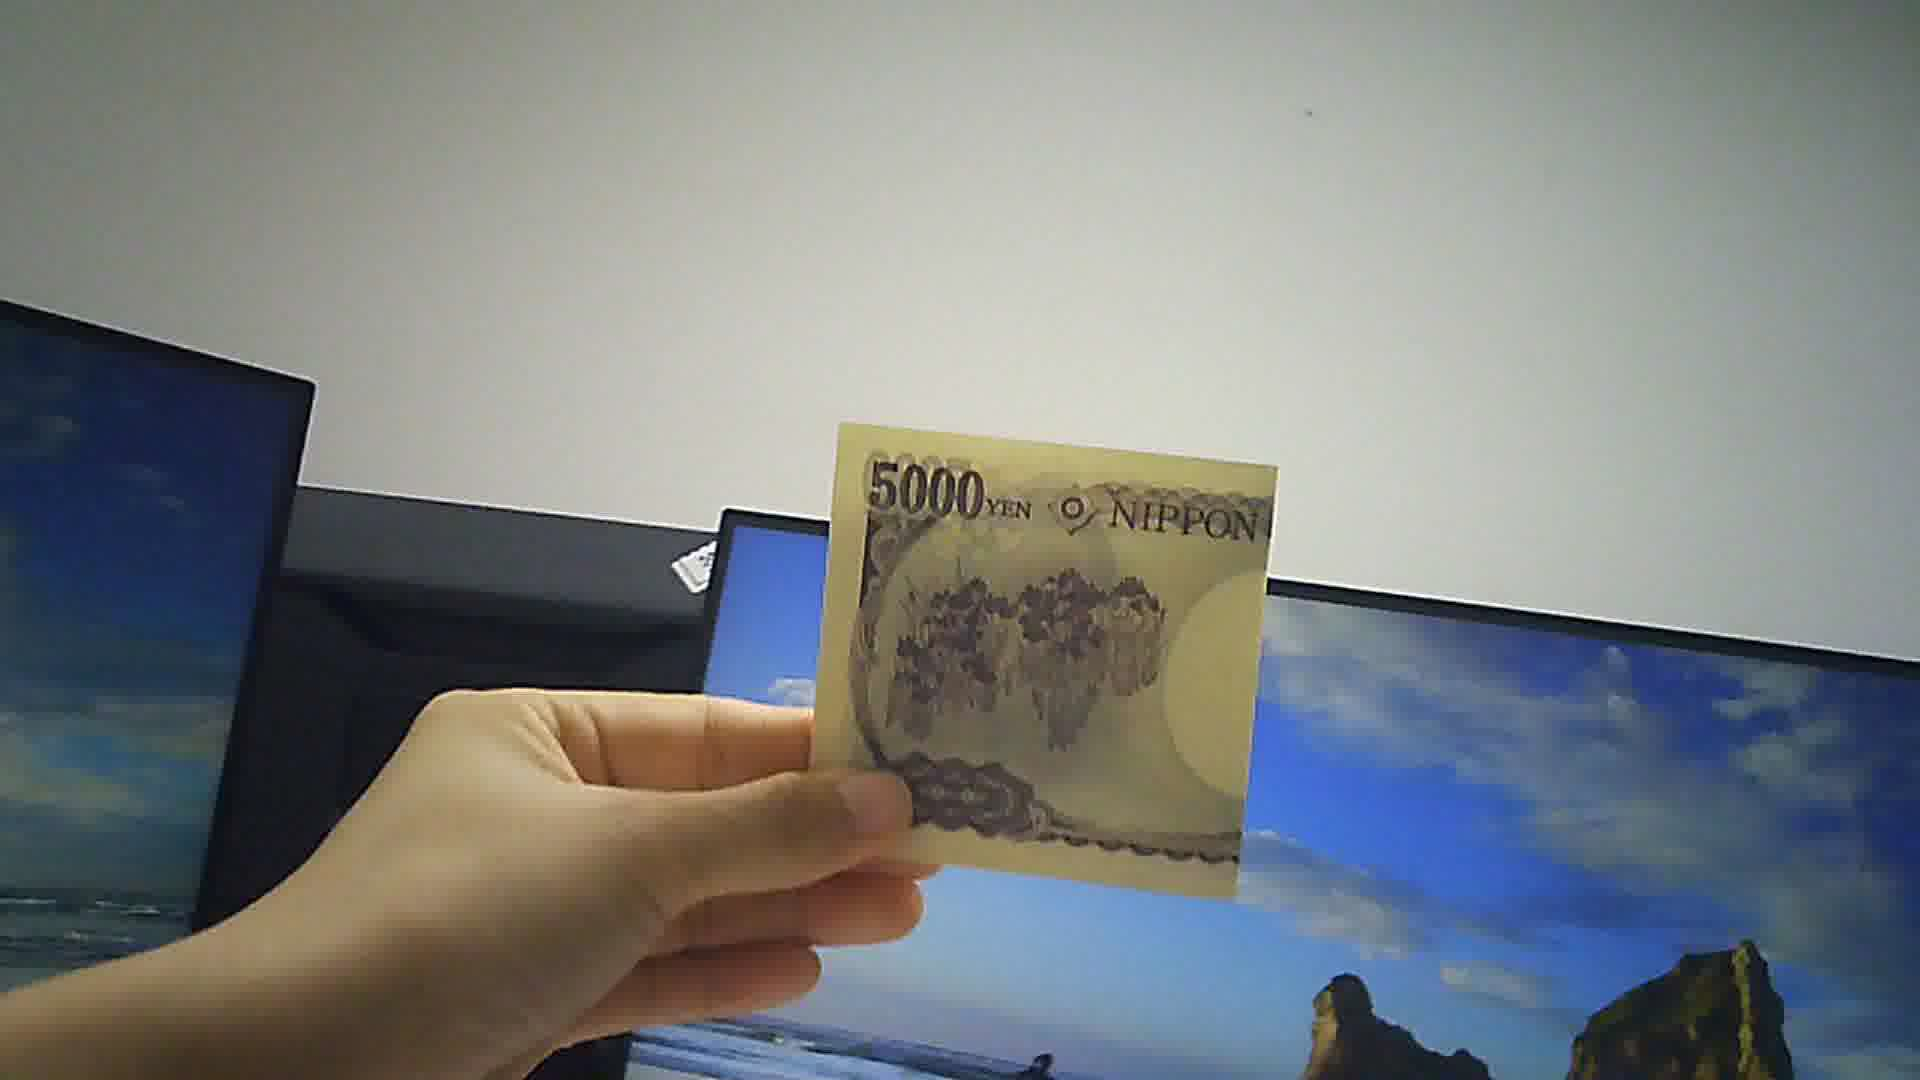5,000 Yen: (782, 410, 1296, 915)
